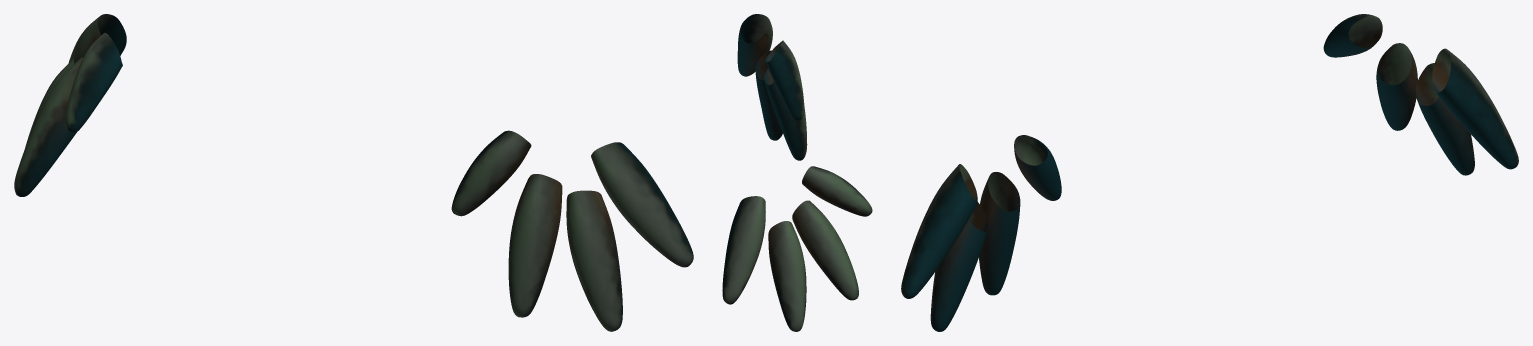
The model's file is KLAUWEN.fbx.
3 renders of one model, left to right at view 1: azimuth 30°, elevation 25°; view 2: azimuth 150°, elevation 25°; view 3: azimuth 270°, elevation 25°, orthographic. The views are drawn at different scales.
Visible parts, largest first — view 1: Claw_low1, pasted__Claw_low1; view 2: pasted__Claw_low1, Claw_low1; view 3: Claw_low1, pasted__Claw_low1.
Boxes of the visible parts, x1,y1,x2,y2 form: Claw_low1: (451,130,693,331); pasted__Claw_low1: (14,14,126,196); pasted__Claw_low1: (722,166,872,331); Claw_low1: (737,14,807,160); Claw_low1: (901,135,1061,331); pasted__Claw_low1: (1323,14,1518,175).
Size of the model in its own units: 103 by 46.34 by 138.
